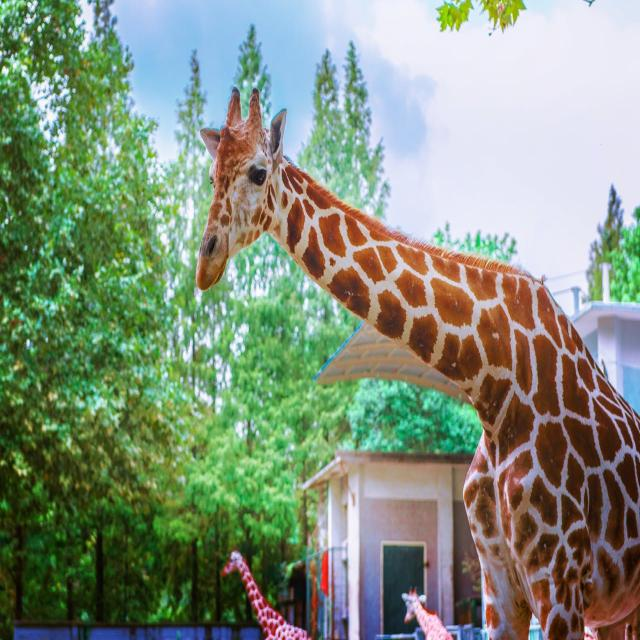Giraffe: (196, 82, 640, 640)
